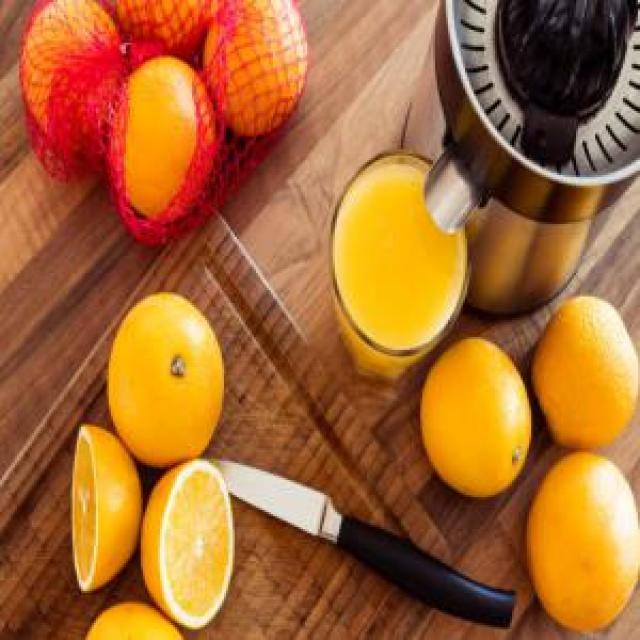knife: (222, 463, 524, 634)
